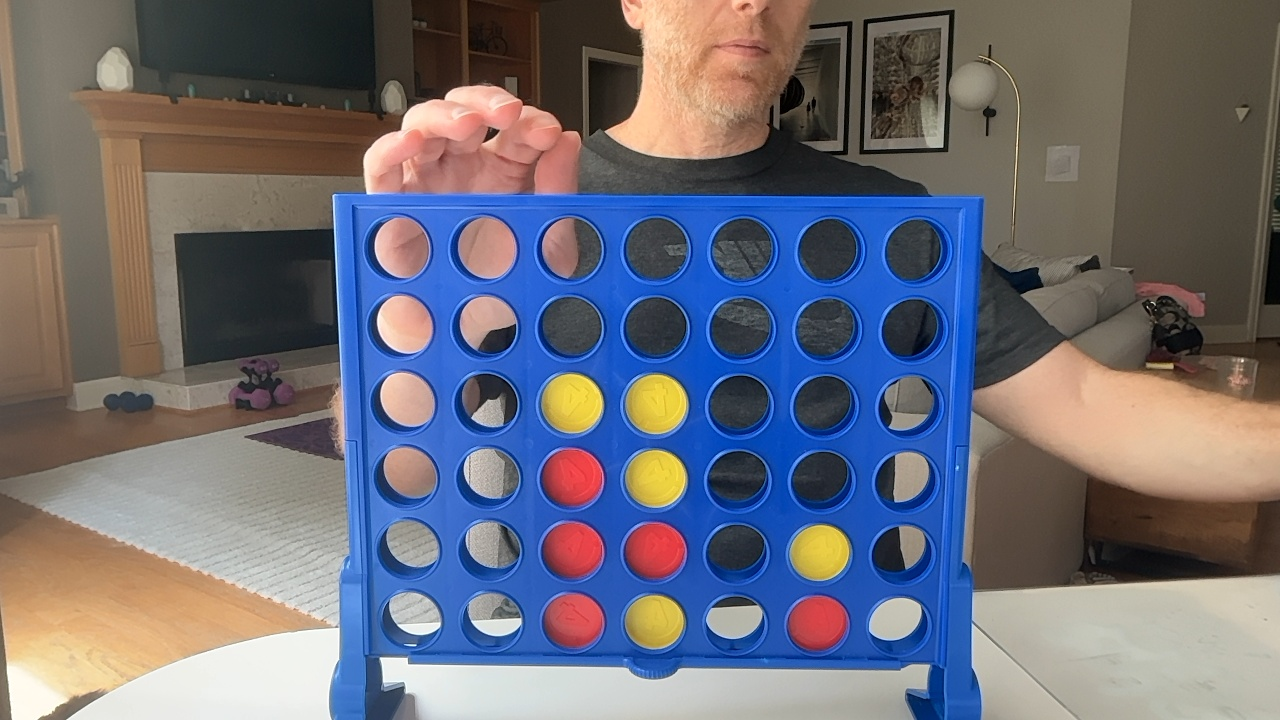red piece: (541, 448, 603, 507), (624, 522, 686, 580), (542, 522, 603, 579), (543, 593, 603, 649), (787, 596, 848, 651)
yellow piece: (540, 373, 603, 433), (625, 374, 688, 434), (624, 450, 687, 508), (789, 524, 851, 581), (624, 594, 684, 650)
